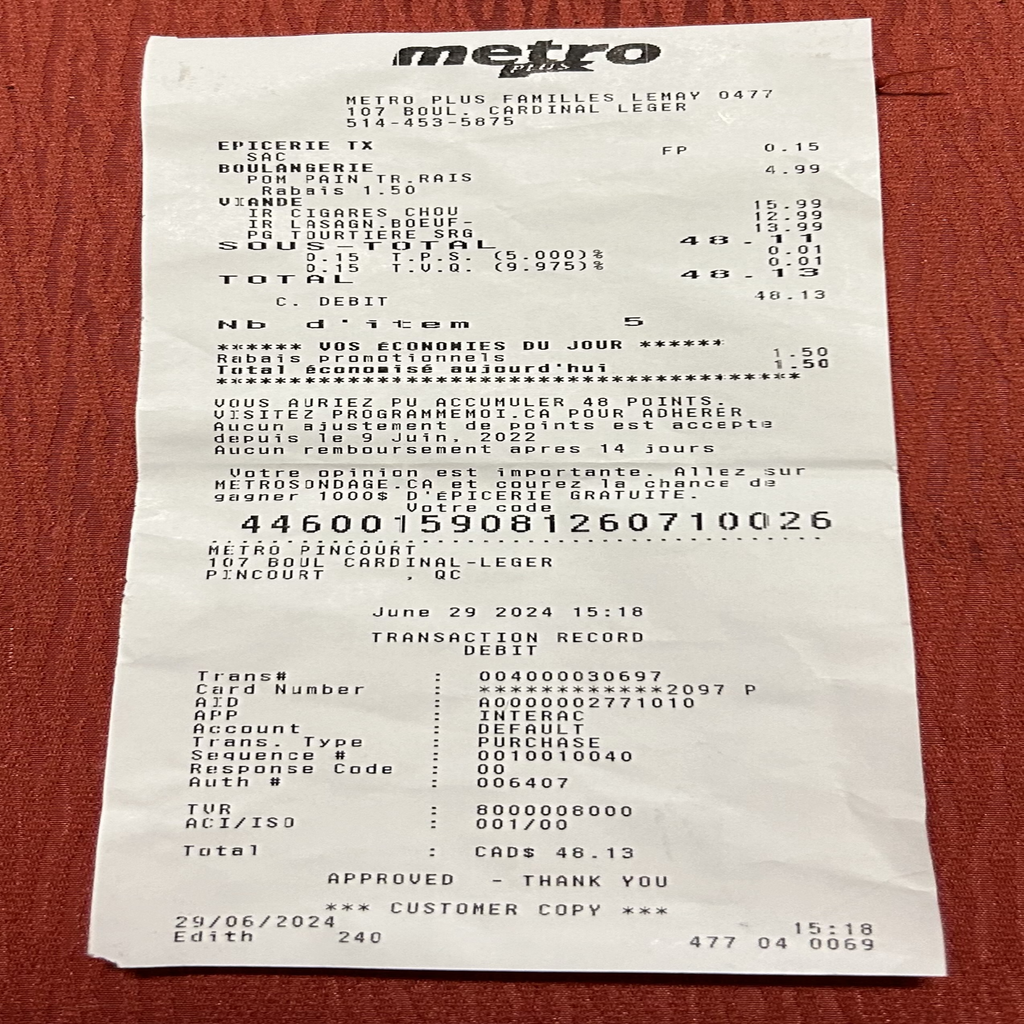recipt: (84, 17, 951, 976)
